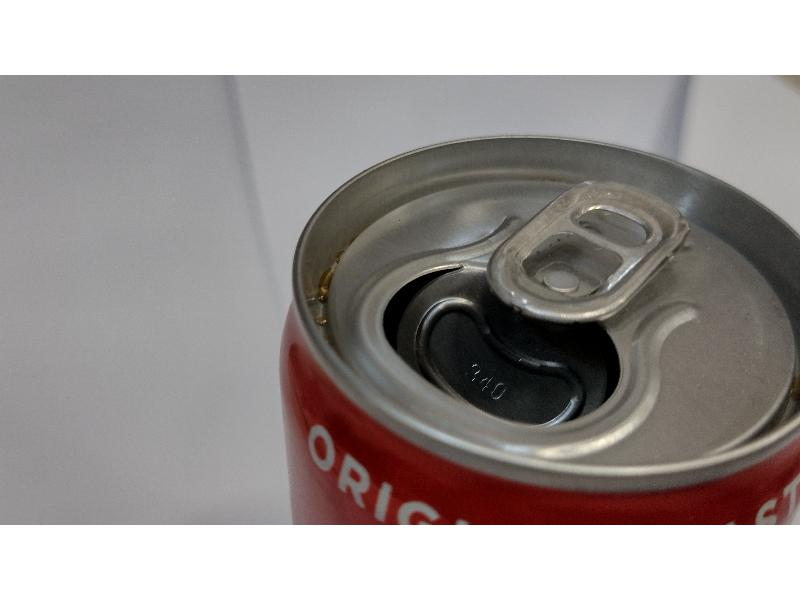can: (262, 126, 799, 521)
